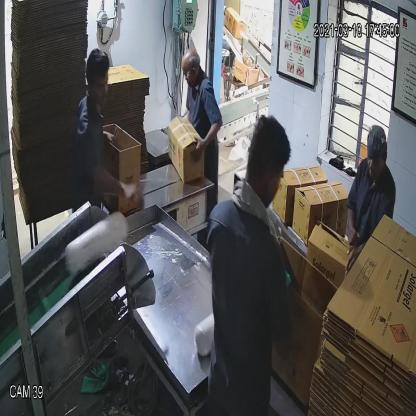no_glove: (87, 153, 142, 215), (188, 117, 224, 166), (342, 206, 361, 250)
